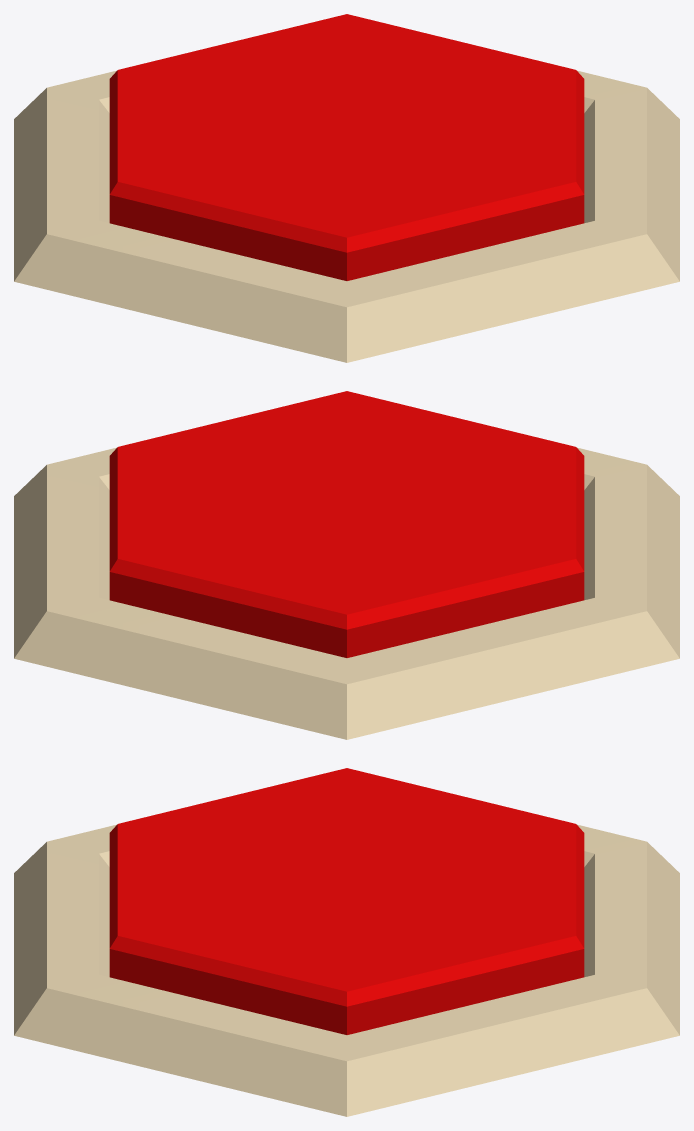
File: pushbutton.fbx
3 views of the same model, one above another, from view 1: azimuth 30°, elevation 25°; view 2: azimuth 150°, elevation 25°; view 3: azimuth 270°, elevation 25° (orthographic).
Visible parts, largest first — view 1: pCylinder10, pCylinder9; view 2: pCylinder10, pCylinder9; view 3: pCylinder10, pCylinder9.
Boxes of the visible parts, left/top/right/bottom form: pCylinder10: left=109, top=14, right=584, bottom=280; pCylinder9: left=14, top=70, right=679, bottom=362; pCylinder10: left=109, top=391, right=584, bottom=657; pCylinder9: left=14, top=447, right=679, bottom=739; pCylinder10: left=109, top=768, right=584, bottom=1034; pCylinder9: left=14, top=824, right=679, bottom=1116.
Size of the model in its own units: 17.6 by 1.88 by 15.24.
